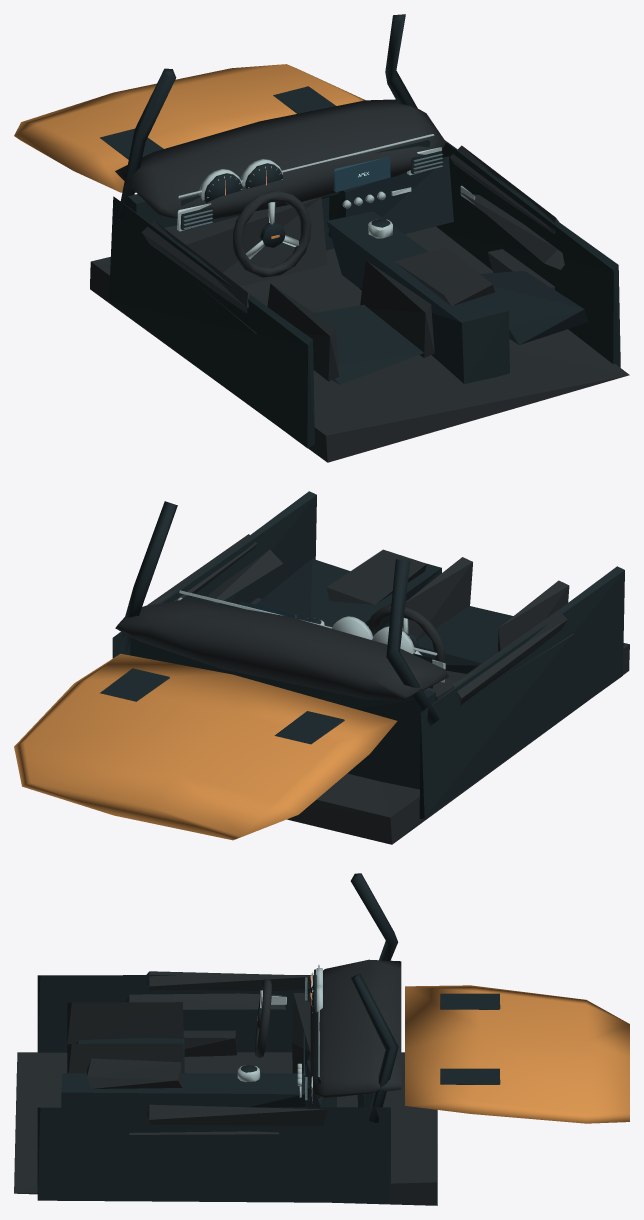
The model's file is club-cockpit.low.glb.
3 views of the same model, one above another, from view 1: azimuth 30°, elevation 25°; view 2: azimuth 150°, elevation 25°; view 3: azimuth 270°, elevation 25° (orthographic). The views are drawn at different scales.
Parts seen in each view (by area): view 1: geometry:body:1, geometry:body:0, geometry:body:4, geometry:steering:10, geometry:body:2, geometry:body:5; view 2: geometry:body:1, geometry:body:4, geometry:body:0, geometry:body:2, geometry:steering:10; view 3: geometry:body:1, geometry:body:0, geometry:body:4, geometry:body:2, geometry:steering:10.
Boxes of the visible parts, x1,y1,x2,y2 form: geometry:body:1: [100, 14, 620, 448]; geometry:body:0: [90, 99, 629, 462]; geometry:body:4: [14, 64, 365, 192]; geometry:steering:10: [233, 190, 311, 277]; geometry:body:2: [177, 134, 475, 238]; geometry:body:5: [333, 156, 390, 192]; geometry:body:1: [100, 491, 624, 818]; geometry:body:4: [14, 653, 397, 840]; geometry:body:0: [115, 534, 629, 844]; geometry:body:2: [178, 590, 445, 682]; geometry:steering:10: [367, 605, 444, 662]; geometry:body:1: [37, 873, 500, 1202]; geometry:body:0: [14, 959, 437, 1205]; geometry:body:4: [405, 985, 629, 1123]; geometry:body:2: [237, 964, 322, 1103]; geometry:steering:10: [255, 979, 272, 1057].
Bounding box in the file's own units: 1.82 × 1.32 × 3.39.
